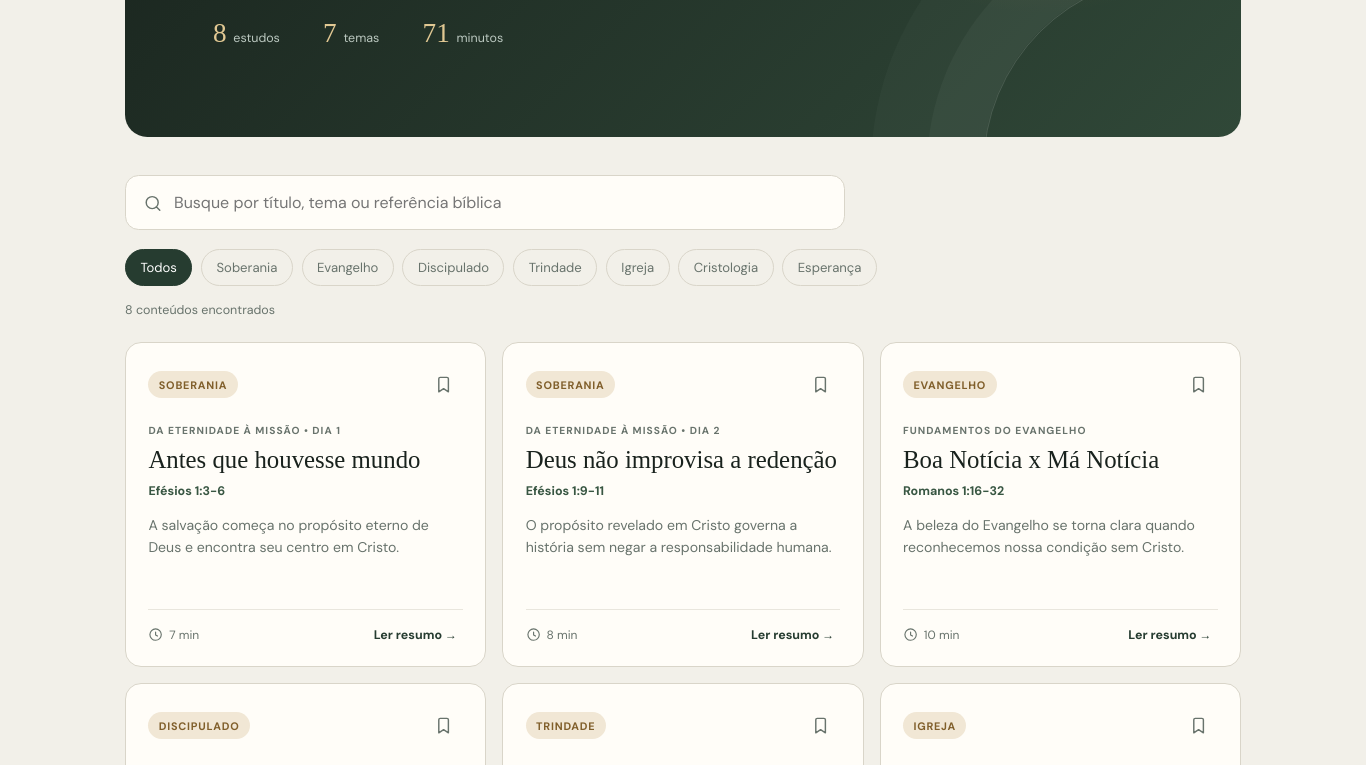
Painel de conteúdos › salva um conteúdo como favorito
The image size is (1366, 765).
(page scrolled)
Click the button named "adicionar antes que houvesse mundo" at [444, 384], box [424,365,463,404]
(page scrolled)
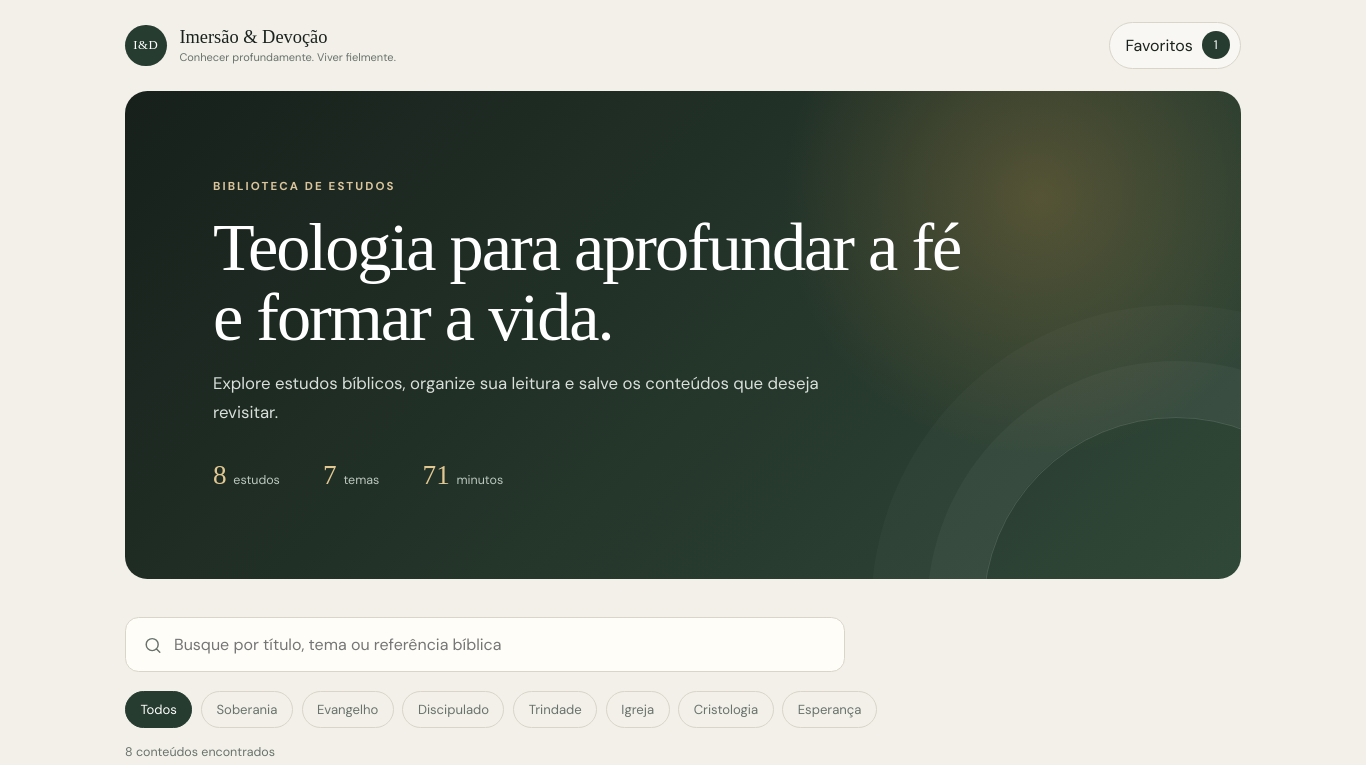
expect the button "Favoritos 1" is shown: met, box [1108,22,1241,69]
